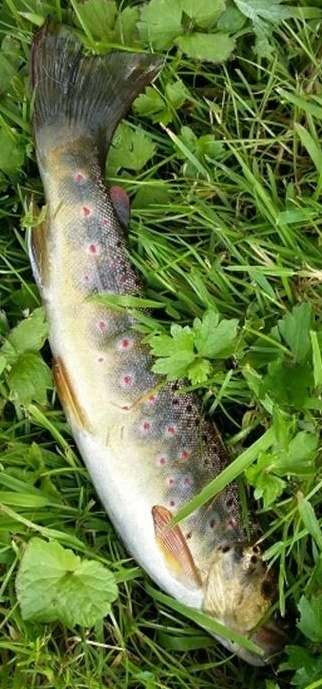Salmo trutta subsp. fario: (20, 20, 302, 669)
